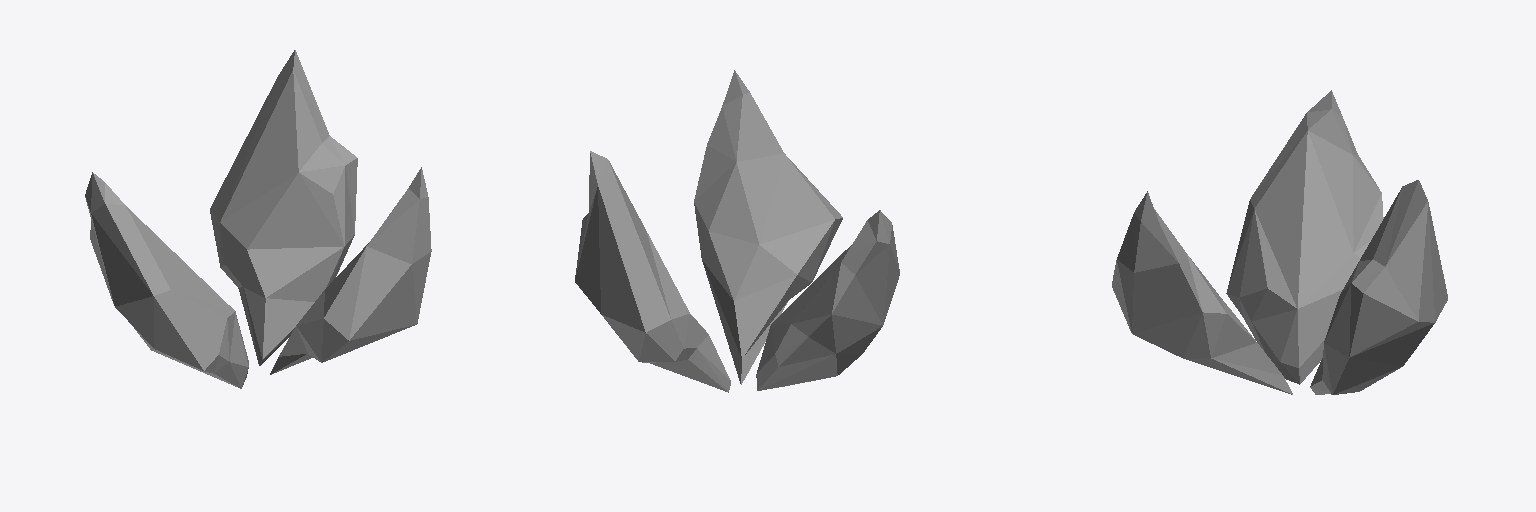
The model's file is zzrot.obj.
3 renders of one model, left to right at view 1: azimuth 30°, elevation 25°; view 2: azimuth 150°, elevation 25°; view 3: azimuth 270°, elevation 25°, orthographic.
Parts seen in each view (by area): view 1: lolMesh_voidgate; view 2: lolMesh_voidgate; view 3: lolMesh_voidgate.
Part boxes in pixels (bbox=[...]): lolMesh_voidgate: bbox=[85, 50, 431, 388]; lolMesh_voidgate: bbox=[575, 70, 899, 392]; lolMesh_voidgate: bbox=[1112, 90, 1447, 394].
Size of the model in its own units: 2.03 by 1.75 by 2.07.